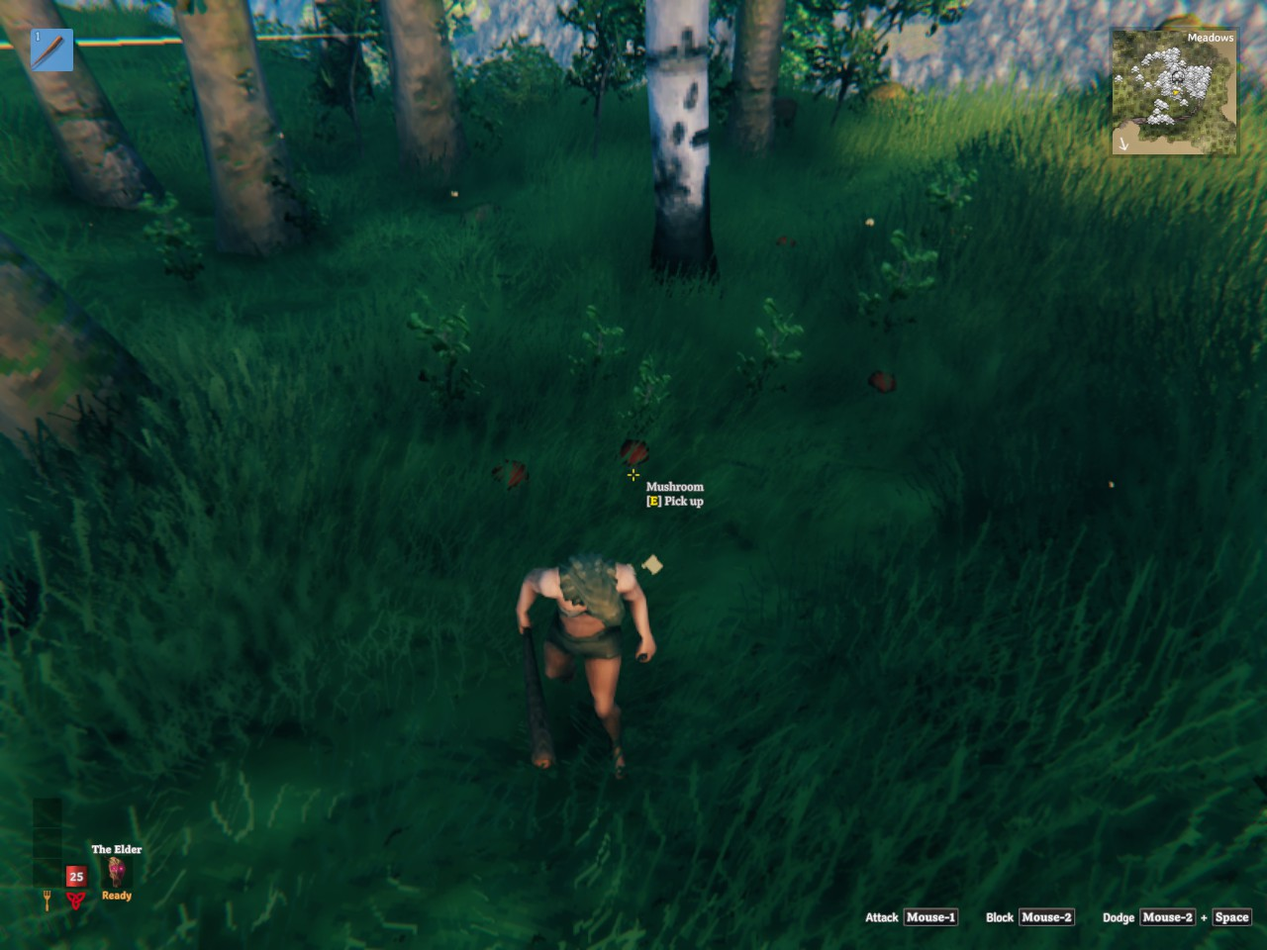Club: (523, 629, 554, 768)
Health Bar: (65, 865, 86, 886)
Mushroom: (493, 459, 529, 490), (621, 439, 648, 466), (868, 371, 896, 393), (776, 236, 795, 246)
